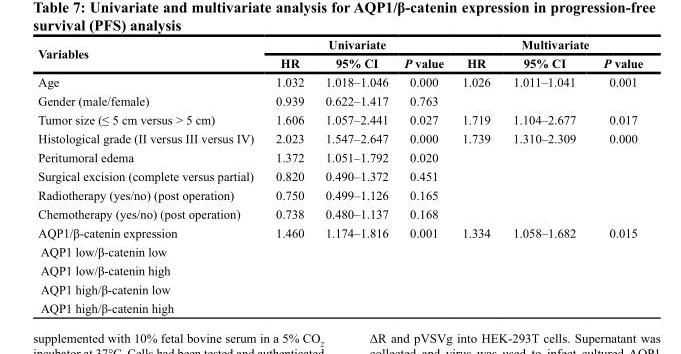table: (37, 37, 642, 314)
table column: (37, 37, 264, 314), (501, 37, 589, 314), (314, 37, 395, 314), (395, 37, 452, 314), (589, 37, 642, 314), (264, 37, 314, 314), (452, 37, 501, 314)
table column header: (37, 37, 642, 72)
table projected row header: (37, 241, 642, 260), (37, 260, 642, 279), (37, 279, 642, 298)
table row: (37, 53, 642, 72), (37, 90, 642, 109), (37, 109, 642, 128), (37, 128, 642, 147), (37, 147, 642, 166), (37, 166, 642, 185), (37, 185, 642, 204), (37, 222, 642, 241), (37, 241, 642, 260), (37, 260, 642, 279), (37, 279, 642, 298), (37, 72, 642, 90), (37, 204, 642, 222), (37, 37, 642, 53), (37, 298, 642, 314)
table spanning cell: (37, 37, 264, 72), (452, 37, 642, 53), (264, 37, 452, 53)
